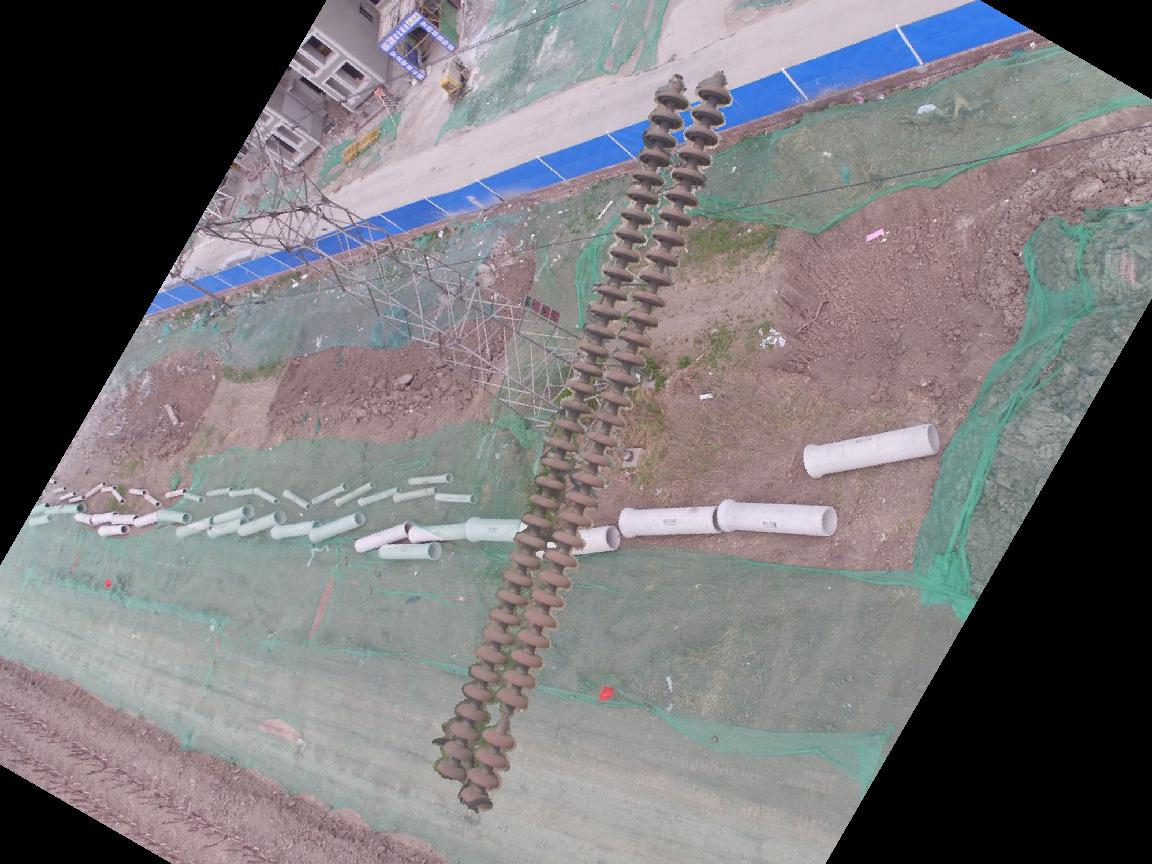insulator: (433, 74, 735, 817)
insulator_stringdrop: (479, 683, 533, 751)
